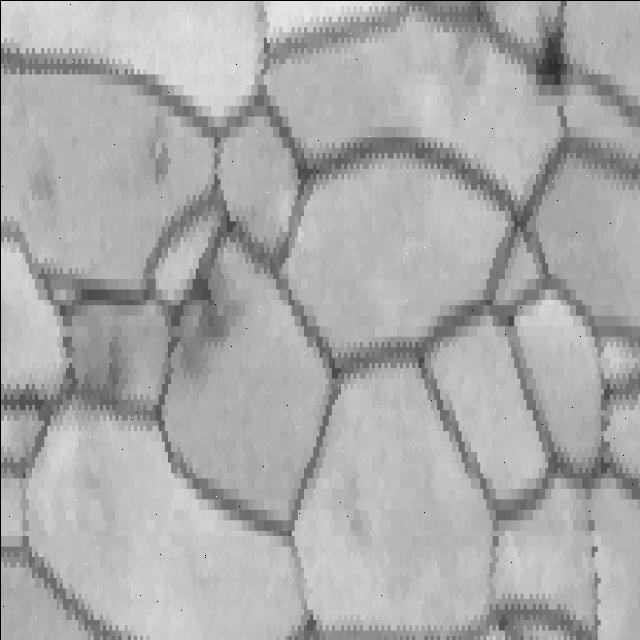good_void: (163, 247, 251, 393), (521, 0, 581, 107), (72, 323, 130, 414), (128, 104, 177, 187)
